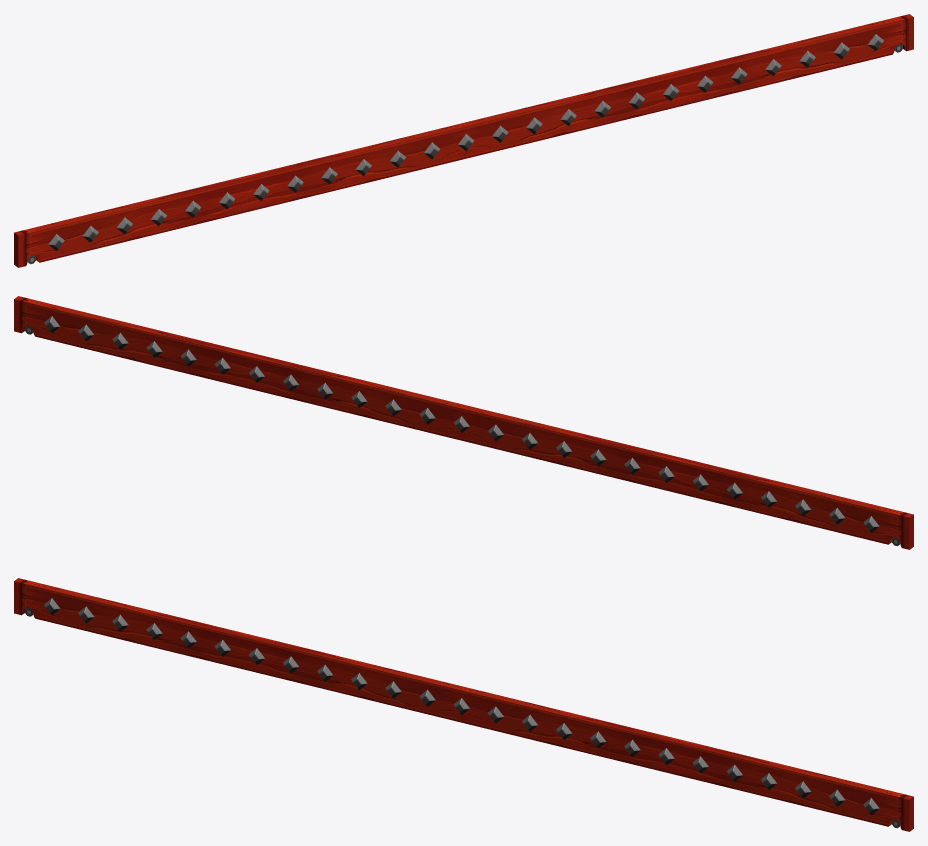
Rendered from long_fence_red.fbx.
3 renders of one model, top to bottom at view 1: azimuth 30°, elevation 25°; view 2: azimuth 150°, elevation 25°; view 3: azimuth 330°, elevation 25°, orthographic.
Visible parts, largest first — view 1: long_fence_red; view 2: long_fence_red; view 3: long_fence_red.
Part boxes in pixels (box(x1,y1,x2,y2)): long_fence_red: box(14, 14, 913, 267); long_fence_red: box(14, 296, 913, 549); long_fence_red: box(14, 578, 913, 831).
Size of the model in its own units: 1165 by 40 by 20.
